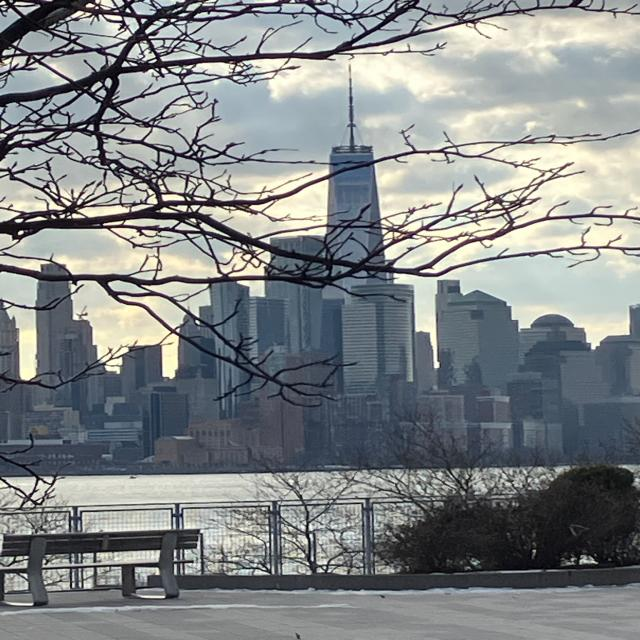WTC: (322, 62, 386, 282)
